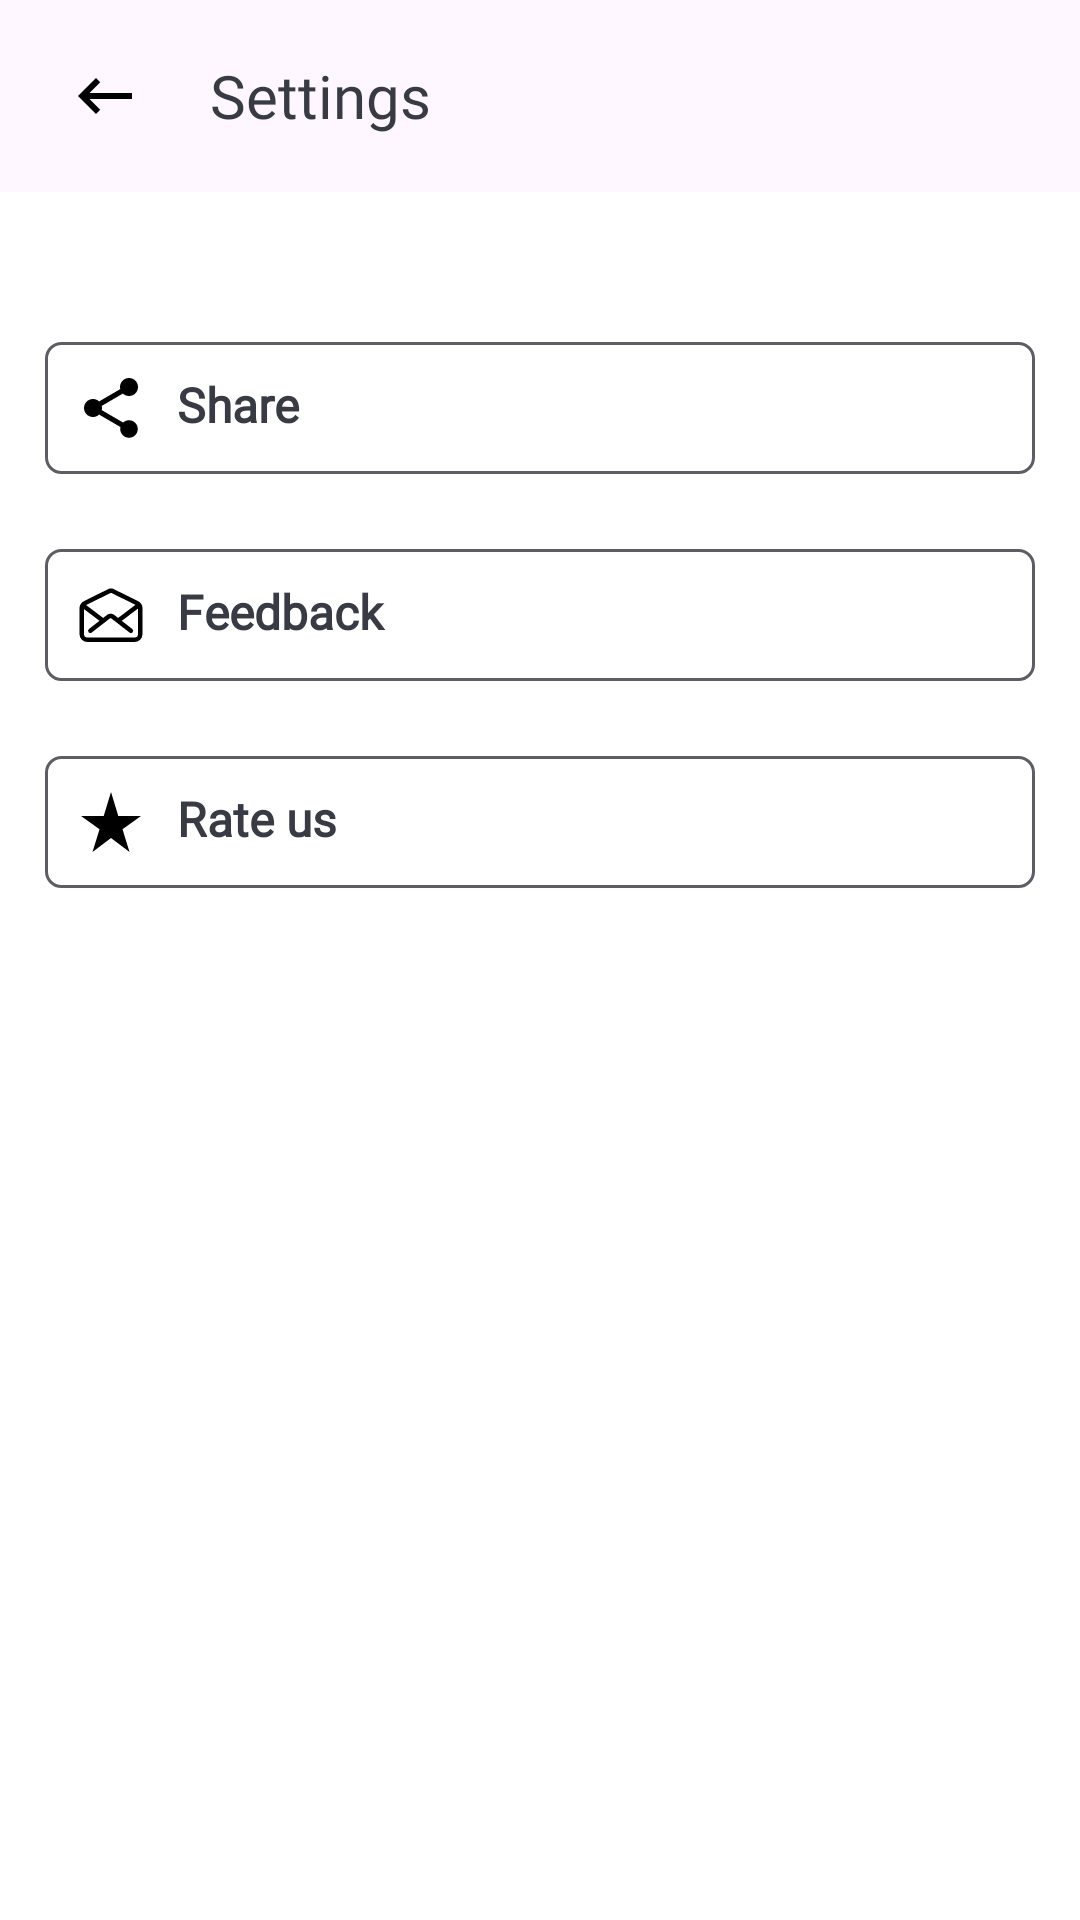

Named icons in this screenshot (1080 × 1920) and their centers, [x,y]:
back: [105,96]
